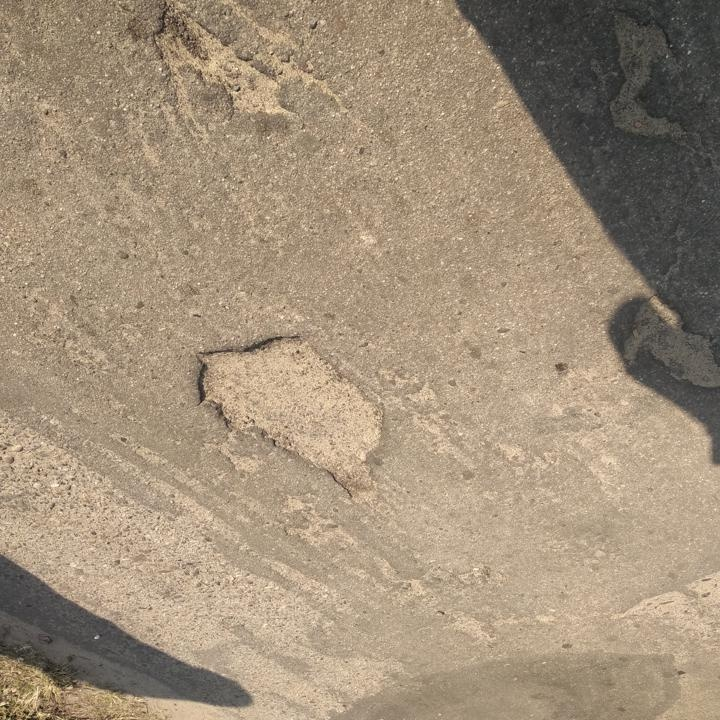pothole: (186, 331, 393, 509), (142, 0, 301, 124)
